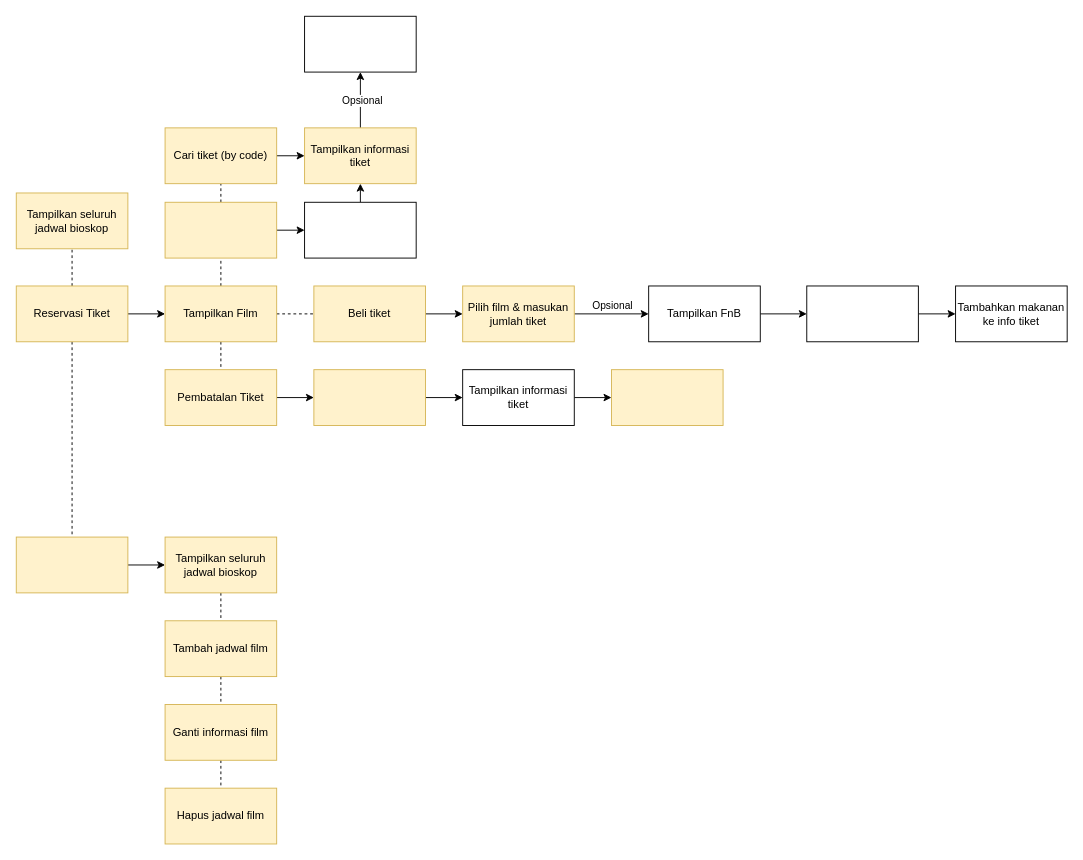
This 1083x860 diagram has some shape labels left out. The shapes that lost their labels are listed below. From the top down, each one's centre as x and y in pixels, then its label:
the point at 360,43: Edit informasi tiket
the point at 220,229: Lihat seluruh tiket dari film
the point at 360,229: Pilih tiket
the point at 862,313: Input makanan yang akan dibeli
the point at 369,397: Input kode tiket yang akan dibatalkan
the point at 667,397: Verifikasi & Hapus Tiket
the point at 71,564: Kelola Film
